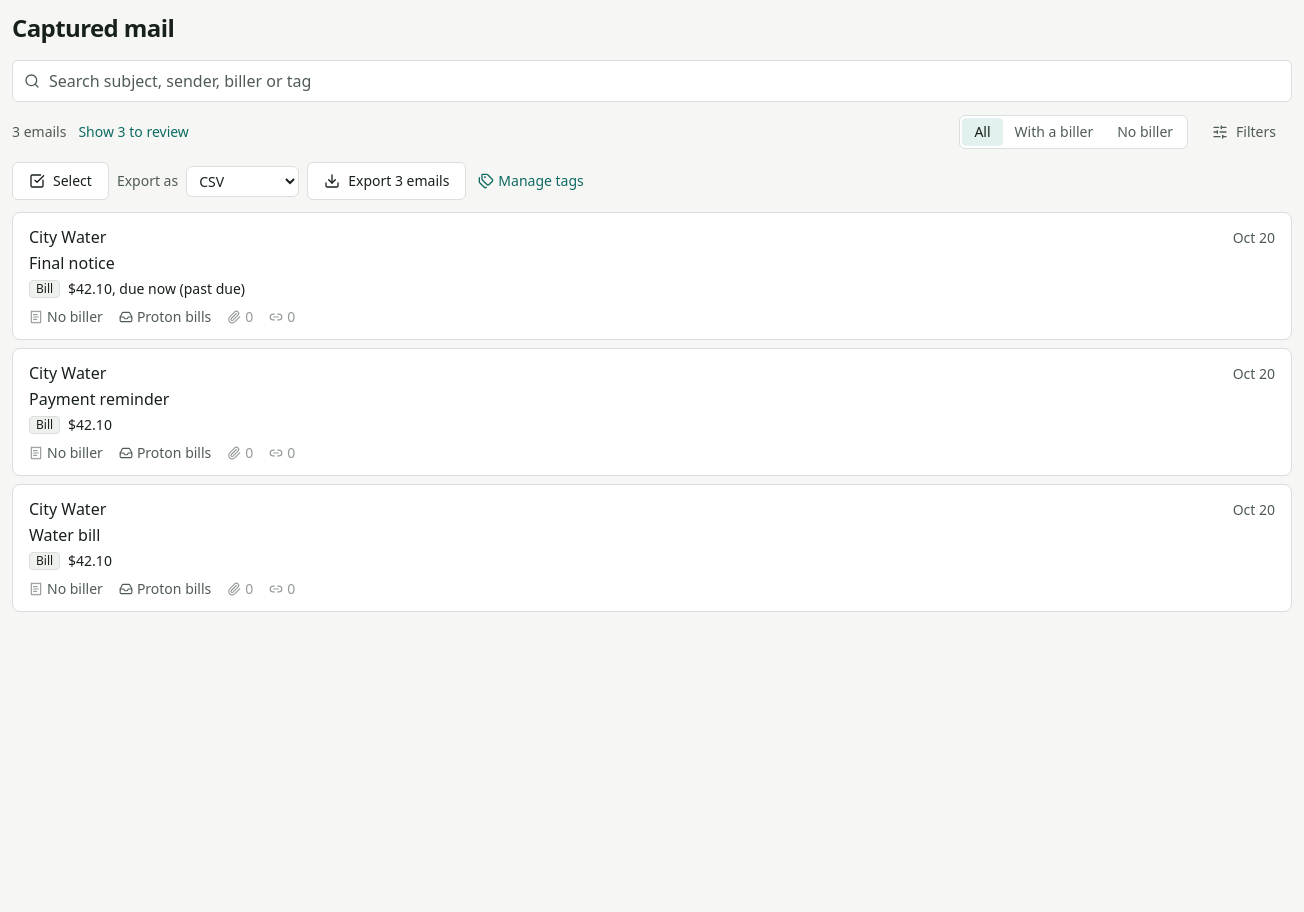
Export on the list page › says so when the browser cannot save the file
This screenshot has width=1304, height=912.
Click the button "Export 3 emails": coordinates (387, 181) top-left (307, 162), bottom-right (466, 200)
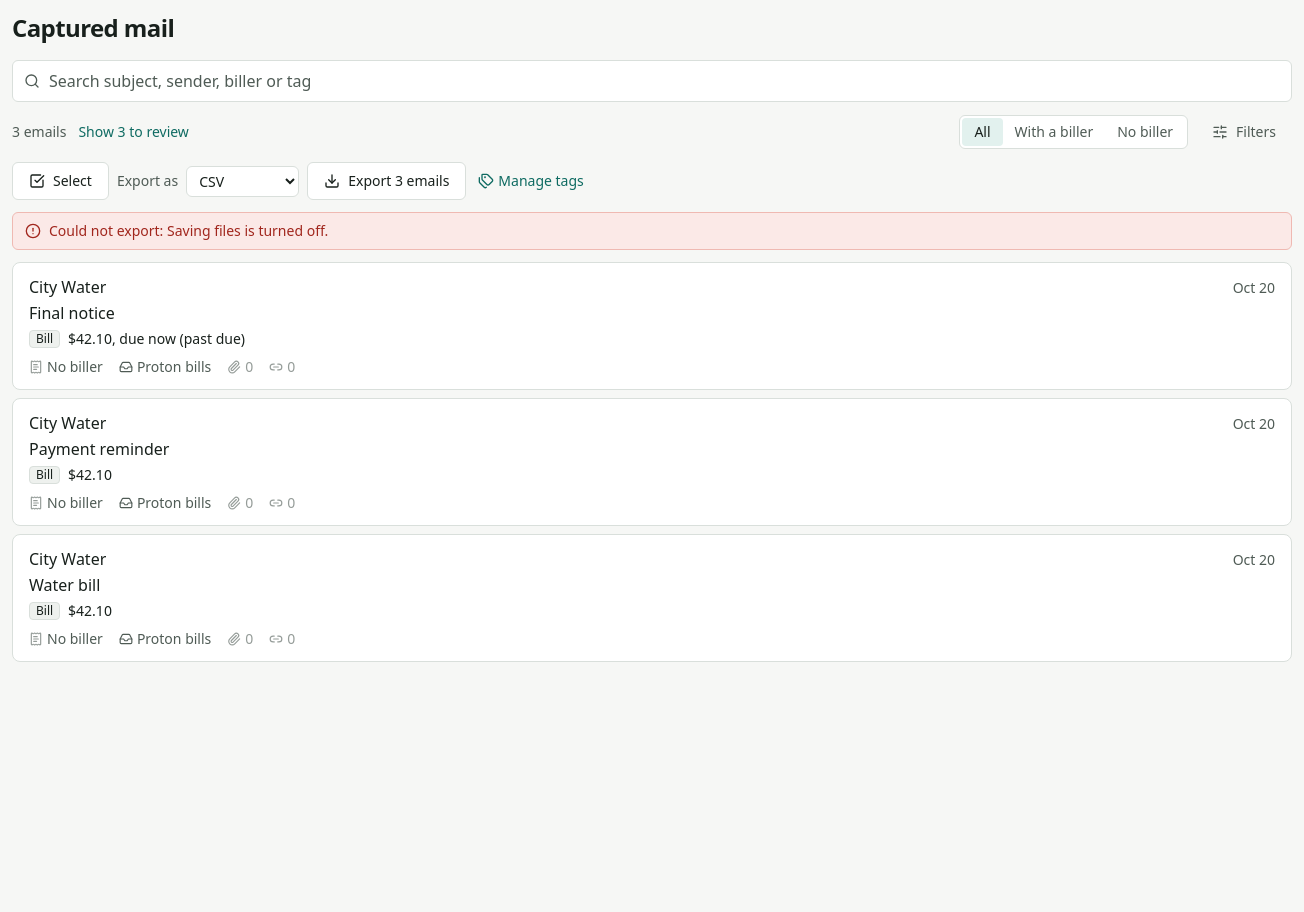
Check: the message "Could not export: Saving files is turned off." is shown, box top-left (12, 212), bottom-right (1292, 250)
